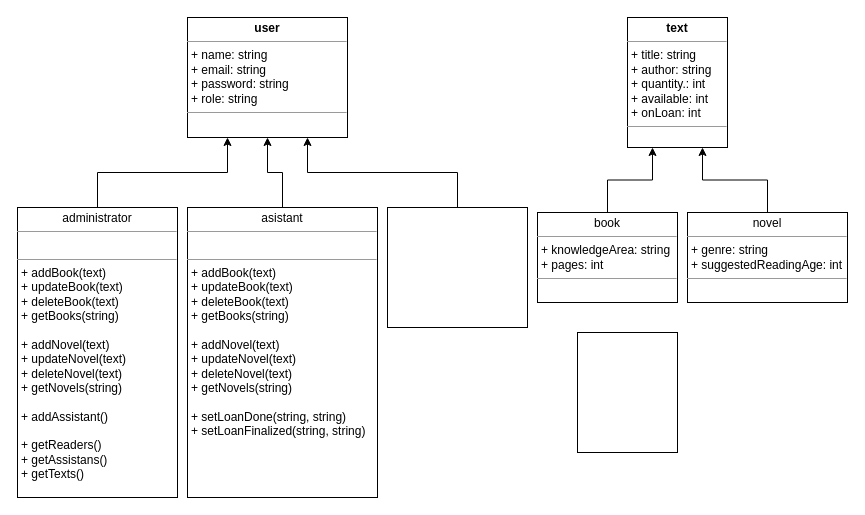
Image size: 865x515. Some labels were removed from this diagram. The centre of each missing label's shape, as x and y in pixels:
"loan + reader: string + title: string + author: string + status: string" belongs at (x=627, y=392).
"reader + getTextsByAuthors () + createBookLoan() + createNovelLoan()" belongs at (x=457, y=267).
